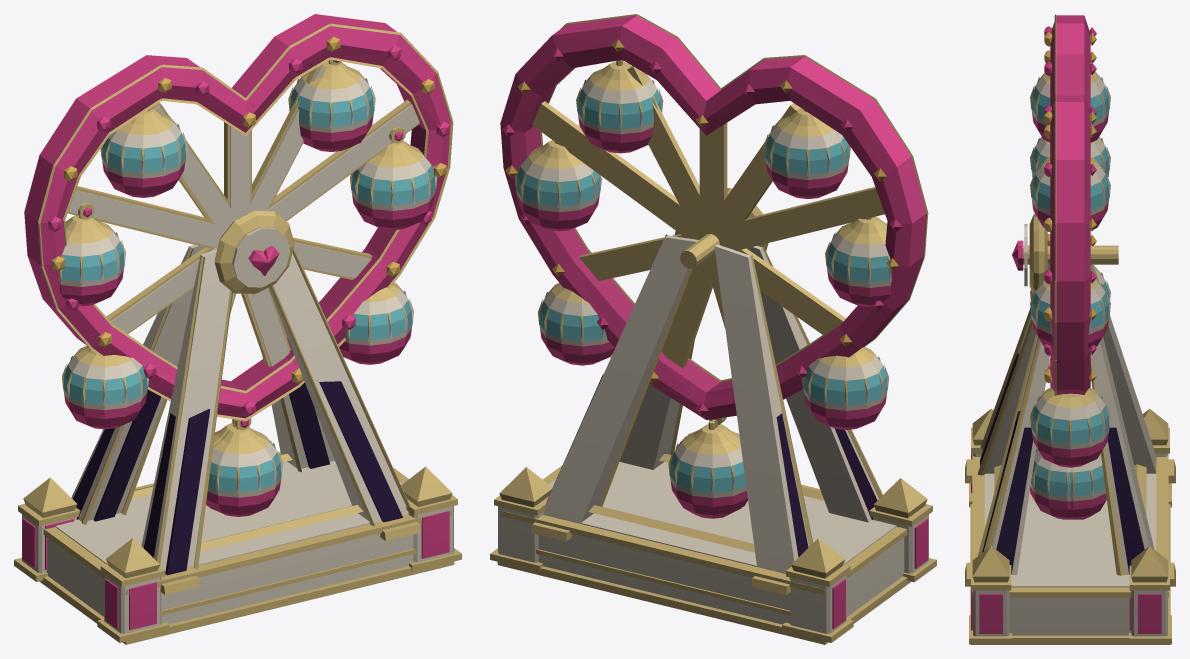
File: ferris-wheel.glb
3 views of the same model, side by side, from view 1: azimuth 30°, elevation 25°; view 2: azimuth 150°, elevation 25°; view 3: azimuth 270°, elevation 25° (orthographic). The views are drawn at different scales.
Parts seen in each view (by area): view 1: root_mesh, wheel_mesh, swing3_mesh, swing1_mesh, swing0_mesh, swing6_mesh, swing4_mesh, swing2_mesh, swing5_mesh; view 2: root_mesh, wheel_mesh, swing1_mesh, swing0_mesh, swing3_mesh, swing7_mesh, swing4_mesh, swing2_mesh, swing5_mesh; view 3: root_mesh, wheel_mesh, swing5_mesh, swing3_mesh, swing6_mesh, swing1_mesh, swing0_mesh, swing7_mesh, swing2_mesh.
Part boxes in pixels (bbox=[...]): root_mesh: bbox=[14, 244, 461, 644]; wheel_mesh: bbox=[24, 14, 453, 420]; swing3_mesh: bbox=[350, 126, 437, 230]; swing1_mesh: bbox=[288, 59, 375, 151]; swing0_mesh: bbox=[100, 105, 187, 197]; swing6_mesh: bbox=[206, 418, 283, 516]; swing4_mesh: bbox=[62, 346, 148, 429]; swing2_mesh: bbox=[59, 202, 125, 305]; swing5_mesh: bbox=[339, 282, 413, 364]; root_mesh: bbox=[490, 231, 936, 644]; wheel_mesh: bbox=[500, 14, 928, 419]; swing1_mesh: bbox=[576, 60, 663, 153]; swing0_mesh: bbox=[763, 108, 850, 199]; swing3_mesh: bbox=[514, 140, 601, 231]; swing7_mesh: bbox=[668, 417, 747, 518]; swing4_mesh: bbox=[802, 347, 888, 429]; swing2_mesh: bbox=[825, 216, 891, 306]; swing5_mesh: bbox=[538, 283, 614, 365]; root_mesh: bbox=[965, 245, 1175, 644]; wheel_mesh: bbox=[1012, 14, 1096, 395]; swing5_mesh: bbox=[1030, 387, 1110, 467]; swing3_mesh: bbox=[1030, 279, 1110, 348]; swing6_mesh: bbox=[1030, 448, 1087, 519]; swing1_mesh: bbox=[1030, 157, 1110, 230]; swing0_mesh: bbox=[1030, 71, 1110, 142]; swing7_mesh: bbox=[1053, 453, 1106, 519]; swing2_mesh: bbox=[1030, 137, 1110, 176].
Bounding box in the file's own units: 10.7 × 13 × 4.9.
